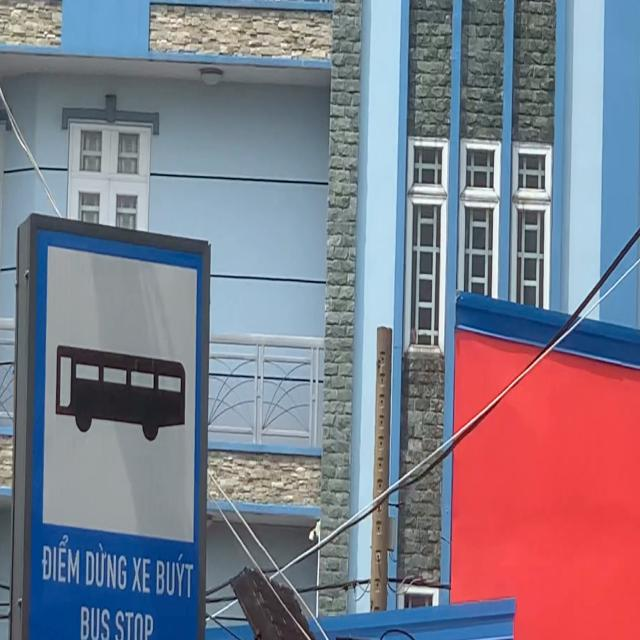Hieu lenh: (26, 222, 207, 640)
